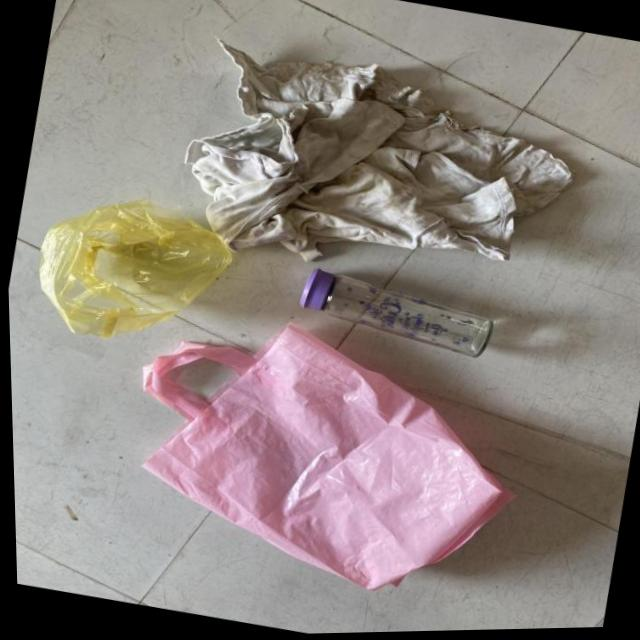clothes: (277, 258, 512, 367)
metal: (90, 293, 541, 639), (12, 159, 249, 388)
plastic: (140, 14, 613, 326)
